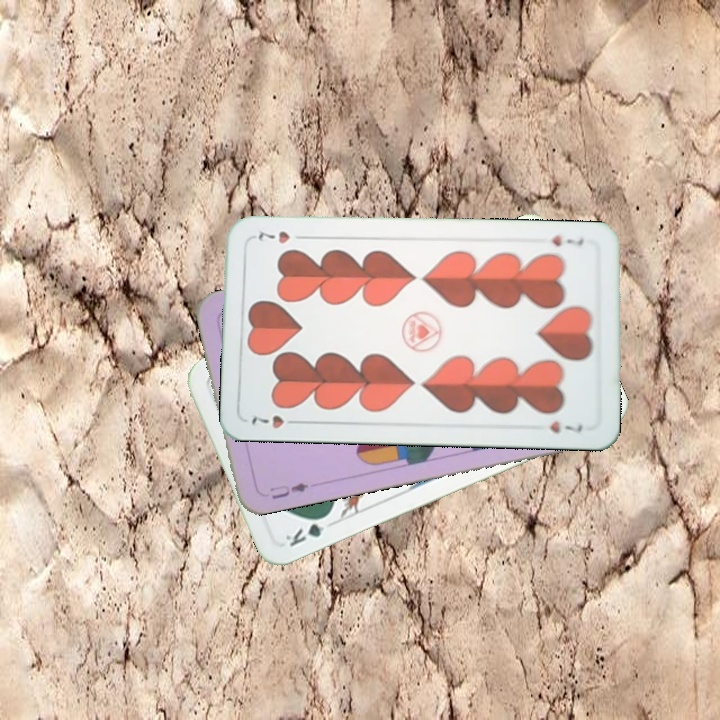EU: (266, 478, 311, 502)
GK: (281, 510, 333, 549)
H7: (246, 411, 303, 431), (548, 232, 586, 249)
